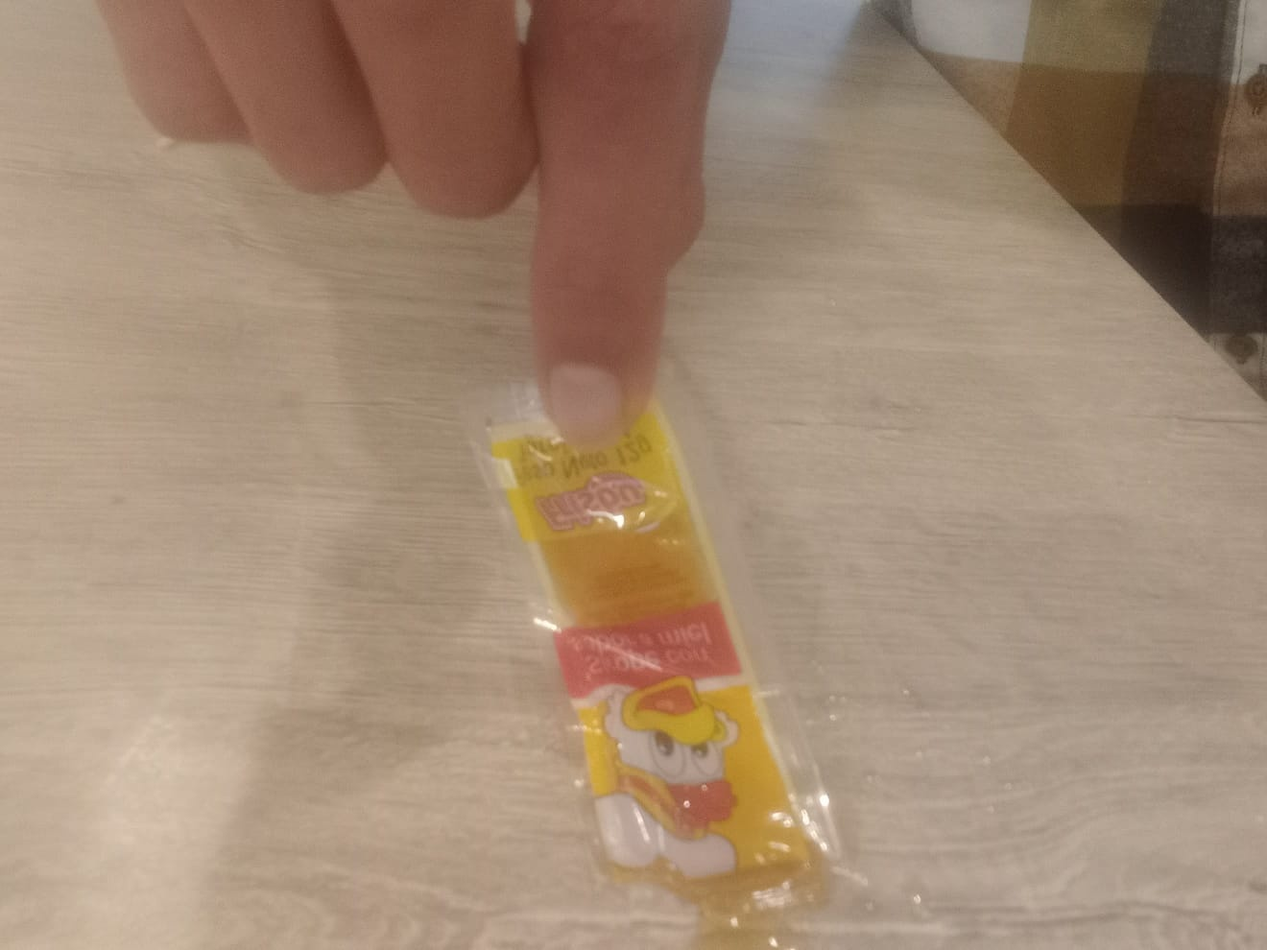Ordinario: (451, 364, 846, 917)
